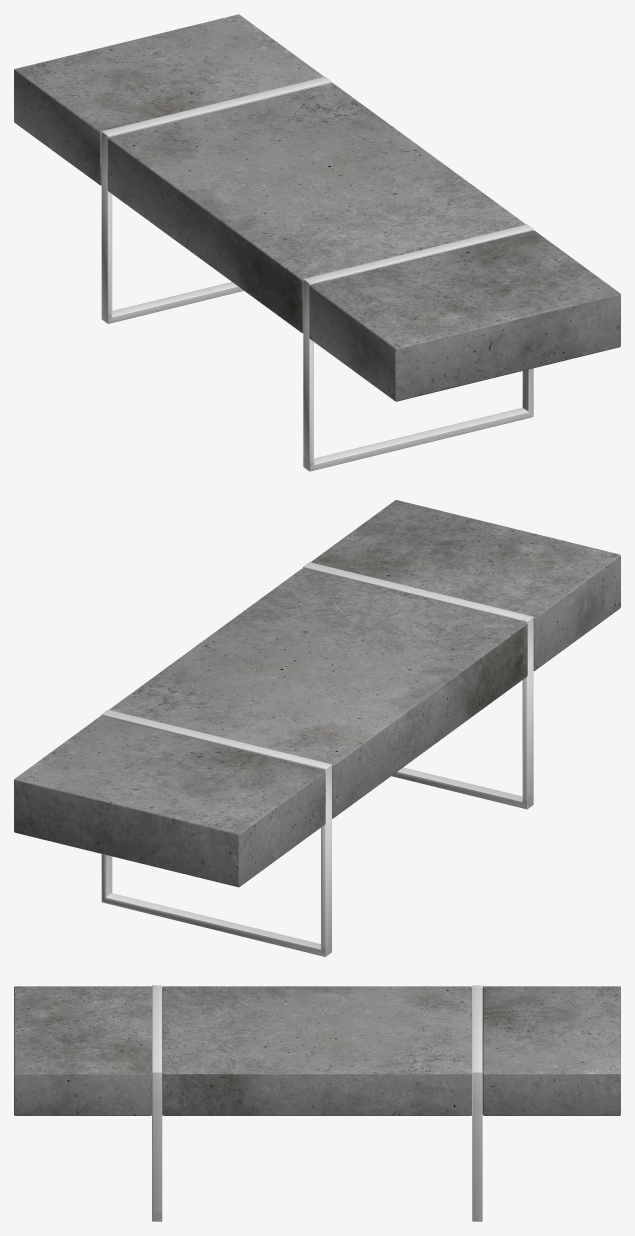
File: LoftCofeeTable.fbx
The picture shows the model from 3 angles, top to bottom: view 1: azimuth 30°, elevation 25°; view 2: azimuth 150°, elevation 25°; view 3: azimuth 270°, elevation 25°; orthographic projection. The views are drawn at different scales.
Visible parts, largest first — view 1: Cube.002, Cube.004; view 2: Cube.002, Cube.004; view 3: Cube.002, Cube.004.
Part boxes in pixels (x1,y1,x2,y2): Cube.002: (14, 14, 620, 401); Cube.004: (101, 76, 533, 471); Cube.002: (14, 500, 620, 887); Cube.004: (101, 562, 533, 956); Cube.002: (14, 986, 620, 1115); Cube.004: (152, 985, 482, 1221).
Size of the model in its own units: 60.38 by 48.12 by 177.
Materials: 2 (2 with a texture image).
